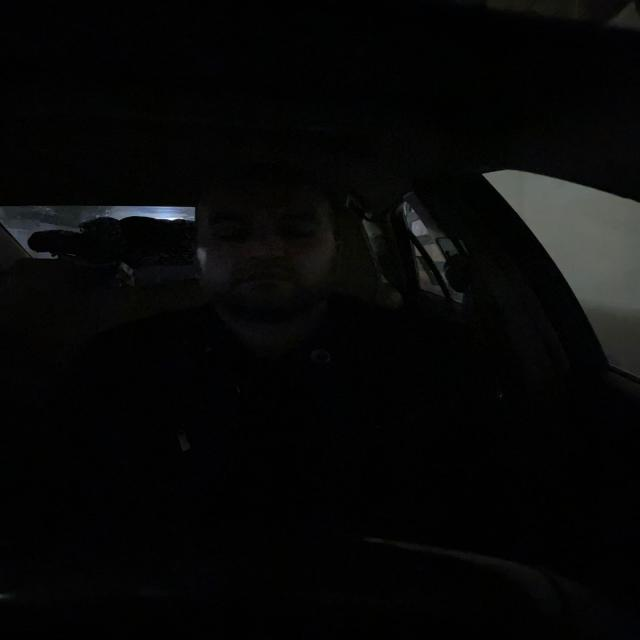drowsy: (180, 149, 366, 323)
